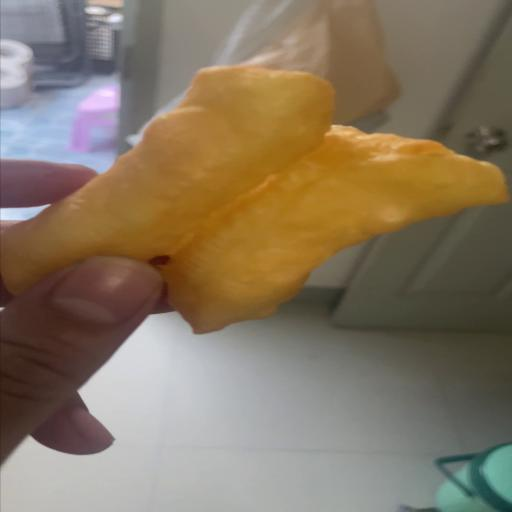street_golden_good: (0, 65, 508, 333)
